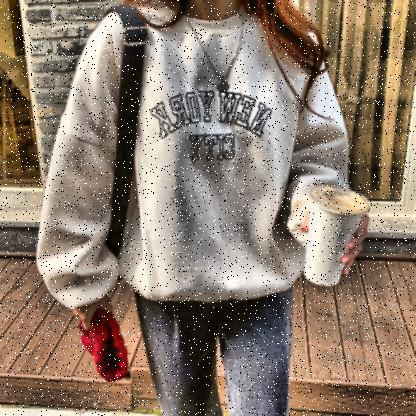sweater: (36, 3, 353, 310)
trousers: (133, 286, 299, 416)
